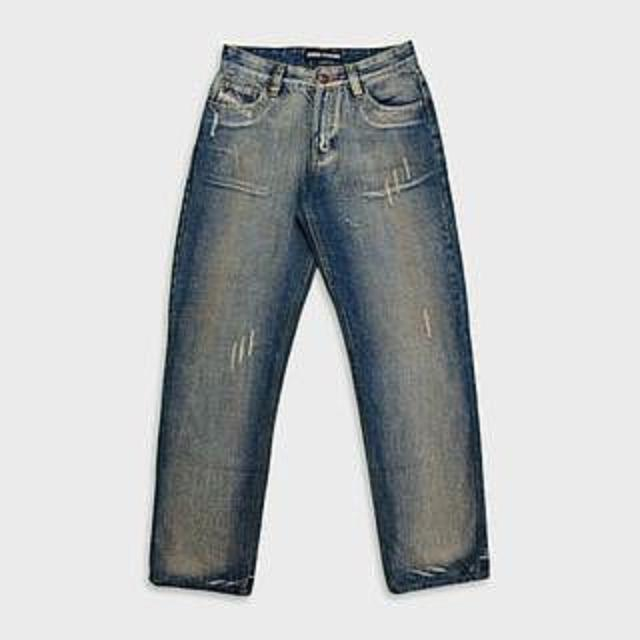TROUSER: (116, 26, 534, 607)
